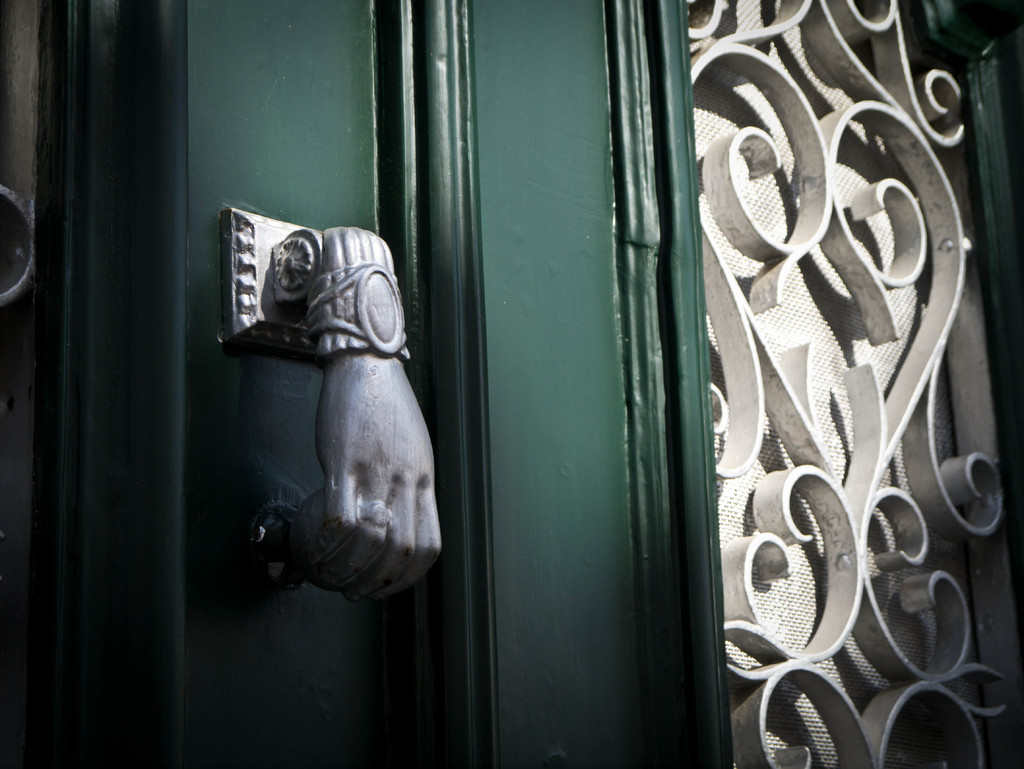door: (482, 46, 1024, 755), (13, 29, 387, 725)
handle: (290, 450, 422, 596)
